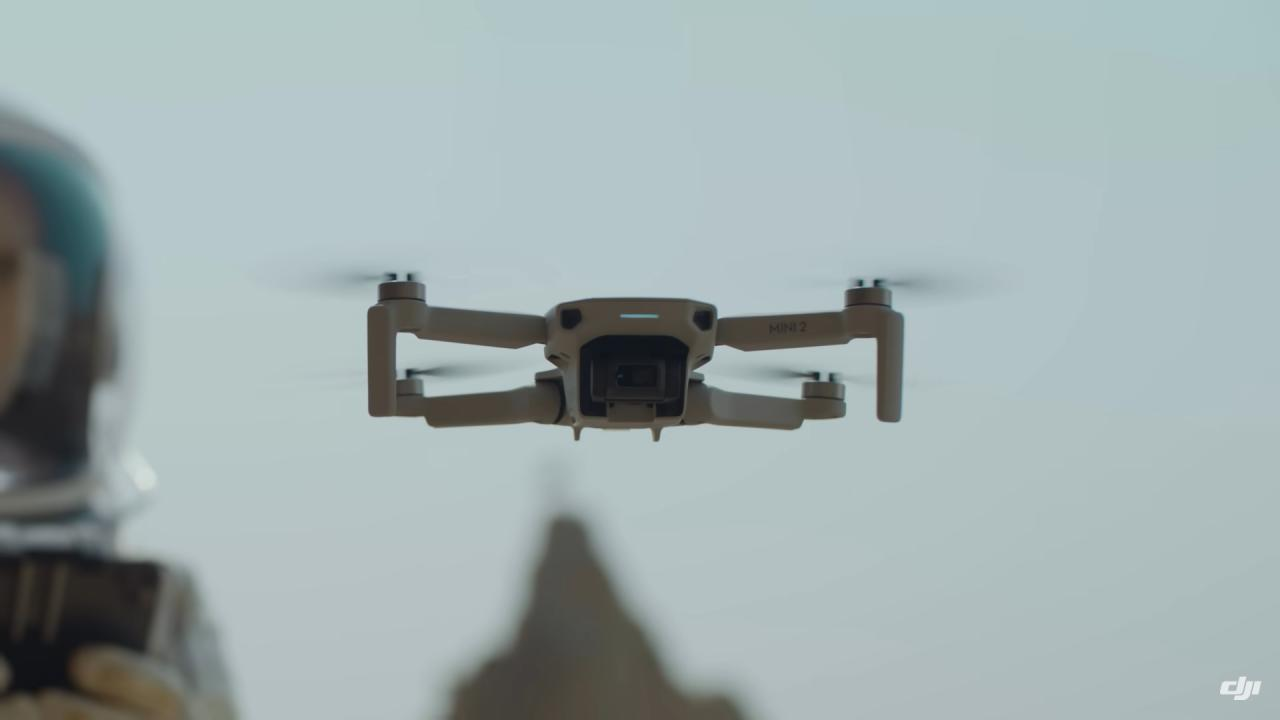Drone: (326, 252, 948, 455)
